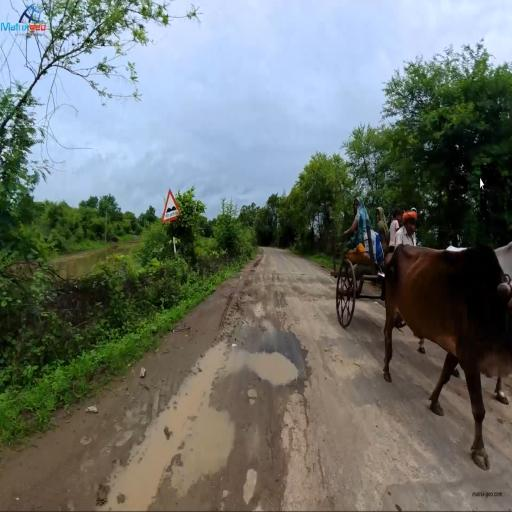pothole: (261, 331, 316, 419), (239, 458, 275, 507), (246, 378, 259, 412)
